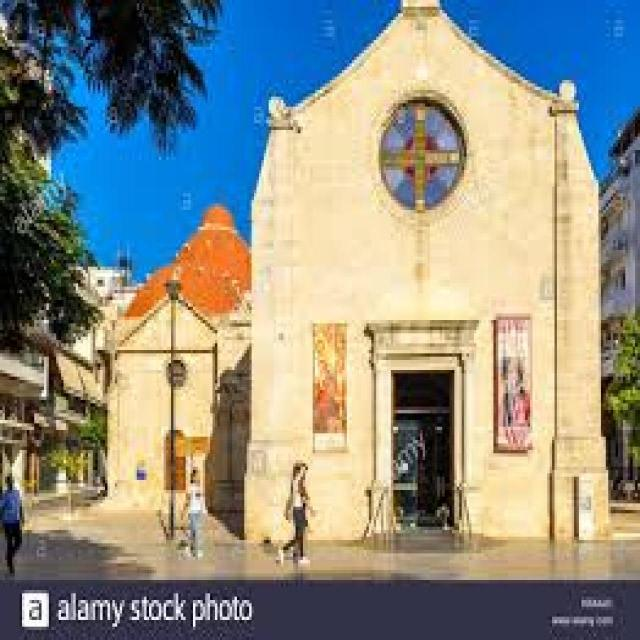Agia Aikaterini: (102, 1, 610, 539)
